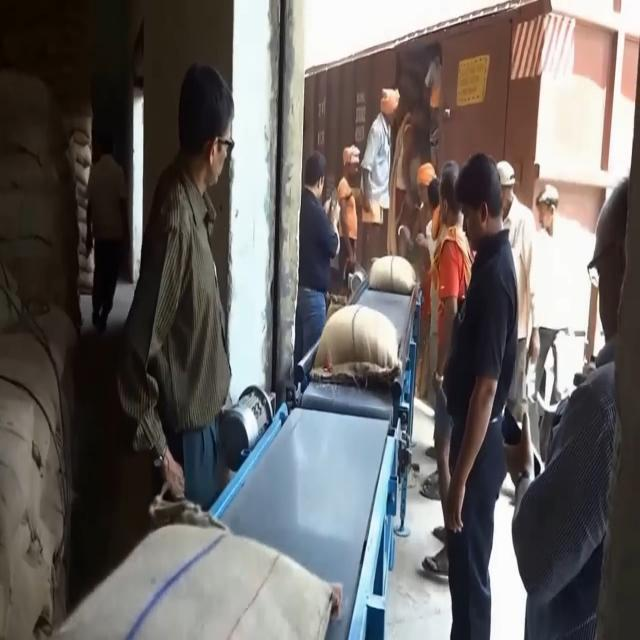gunny_bag: (40, 503, 342, 640), (308, 300, 400, 383), (363, 252, 418, 302)
